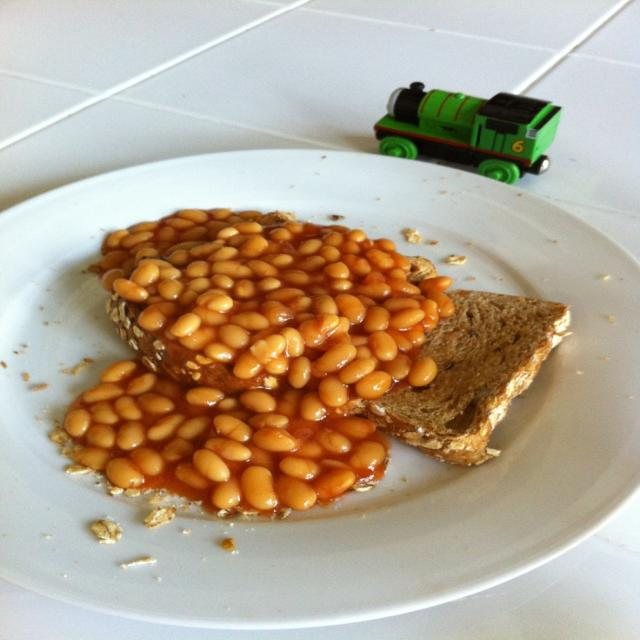sliced_bread: (358, 291, 567, 465), (106, 293, 230, 385), (549, 311, 567, 337), (517, 367, 534, 391)
